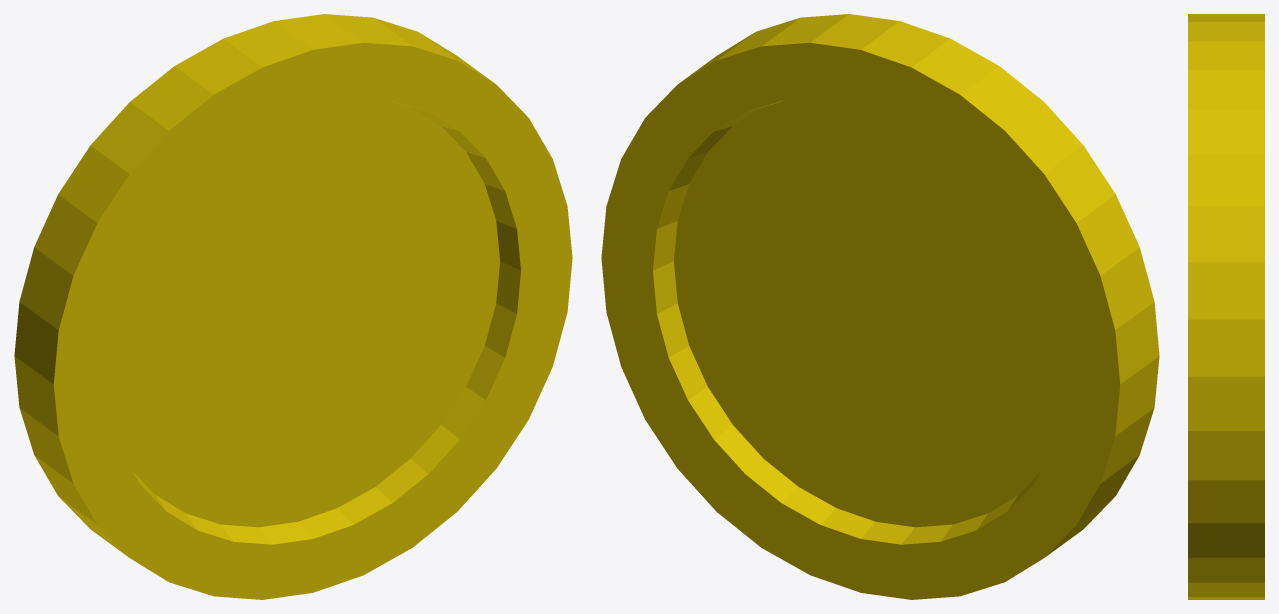
Rendered from coin.glb.
The picture shows the model from 3 angles, left to right: view 1: azimuth 30°, elevation 25°; view 2: azimuth 150°, elevation 25°; view 3: azimuth 270°, elevation 25°; orthographic projection. The views are drawn at different scales.
Visible parts, largest first — view 1: Cylinder; view 2: Cylinder; view 3: Cylinder.
Part boxes in pixels (x1=…): Cylinder: x1=14, y1=14, x2=572, y2=599; Cylinder: x1=601, y1=14, x2=1159, y2=599; Cylinder: x1=1188, y1=14, x2=1264, y2=599.
Bounding box in the file's own units: 0.4768 × 0.4768 × 0.0625.
